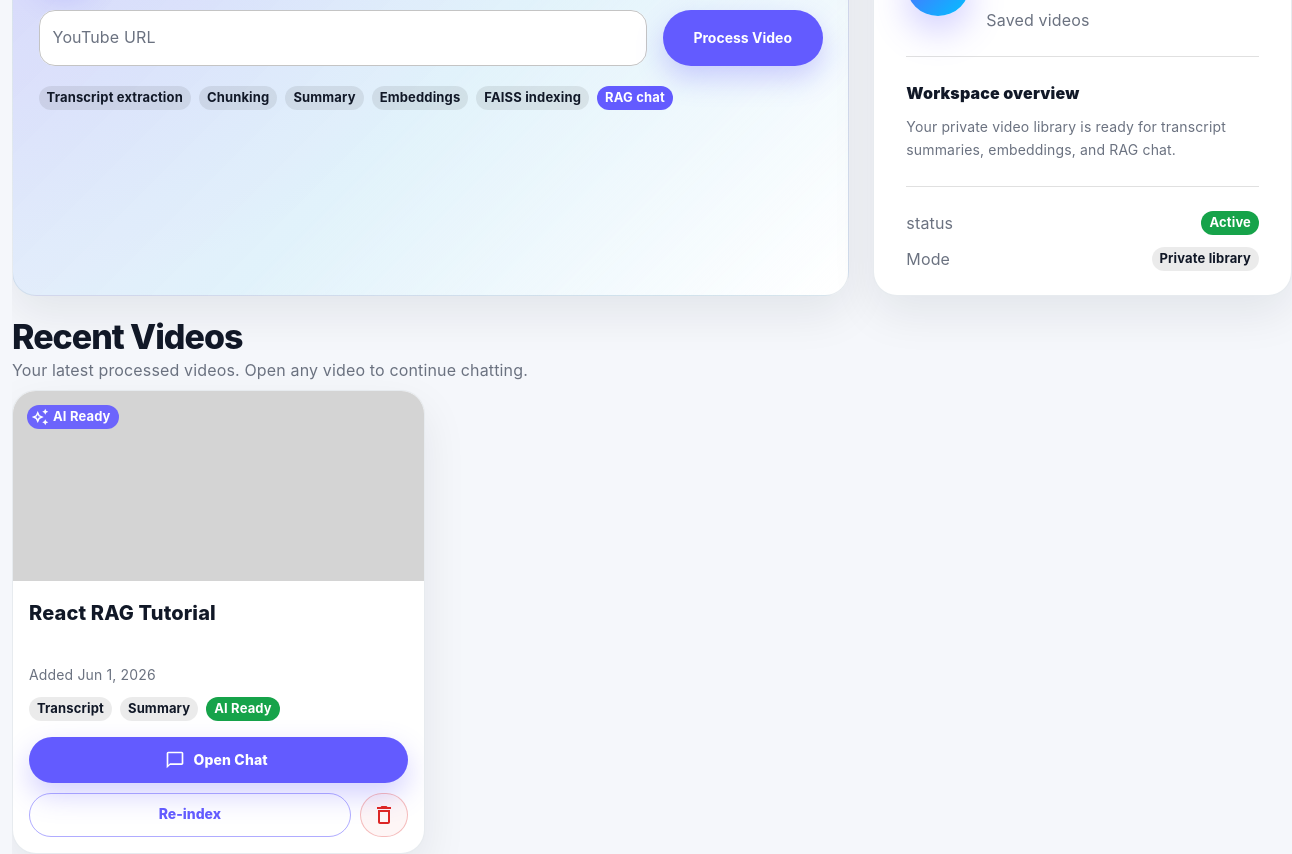
Scenario: DashboardPage › reindexes video
The image size is (1292, 854).
(page scrolled)
expect the 1st text "AI Ready" is shown: met, box [53,408,111,424]
Click the button "Re-index". click: (190, 815)
box: [29,793,351,837]
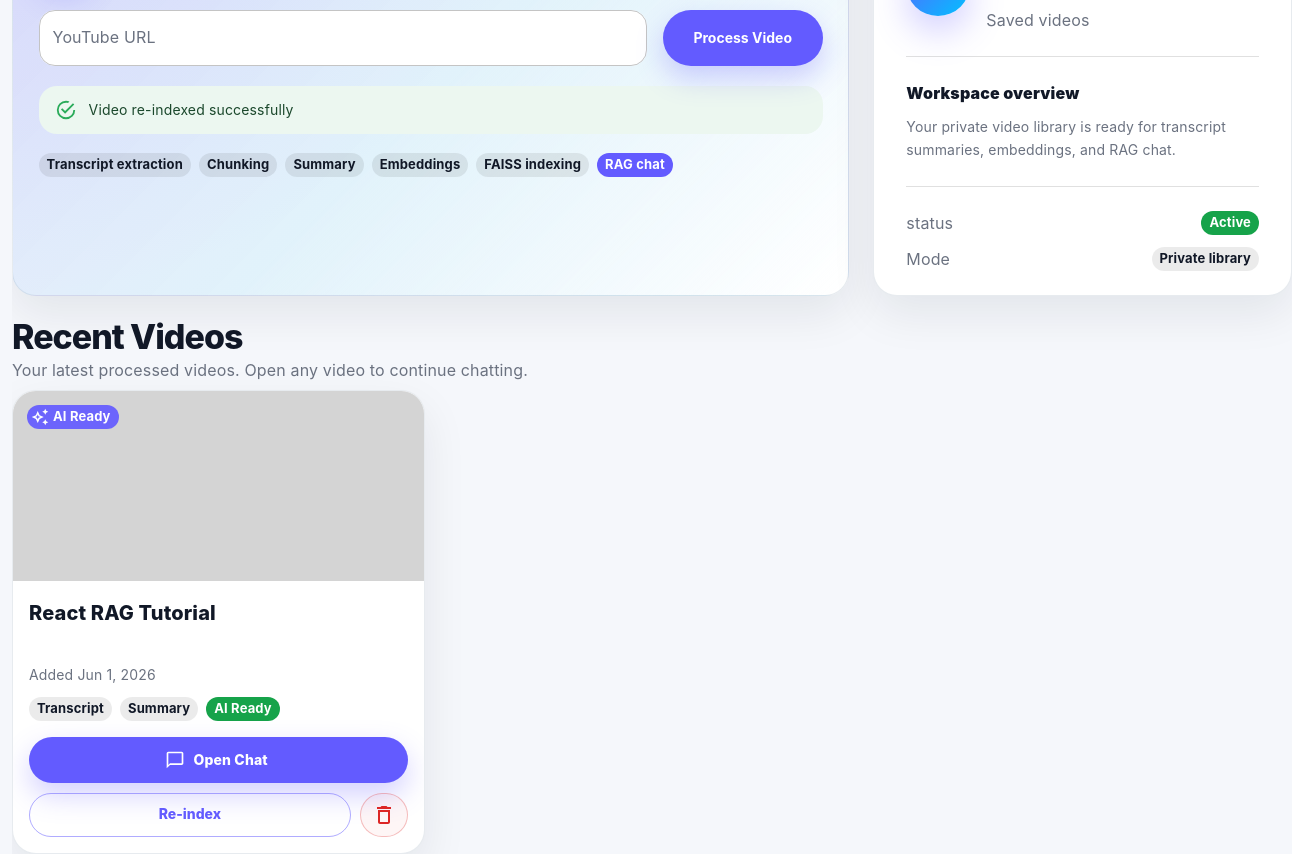
expect the text "Video re-indexed successfully" is shown: met, box [89,101,294,118]
